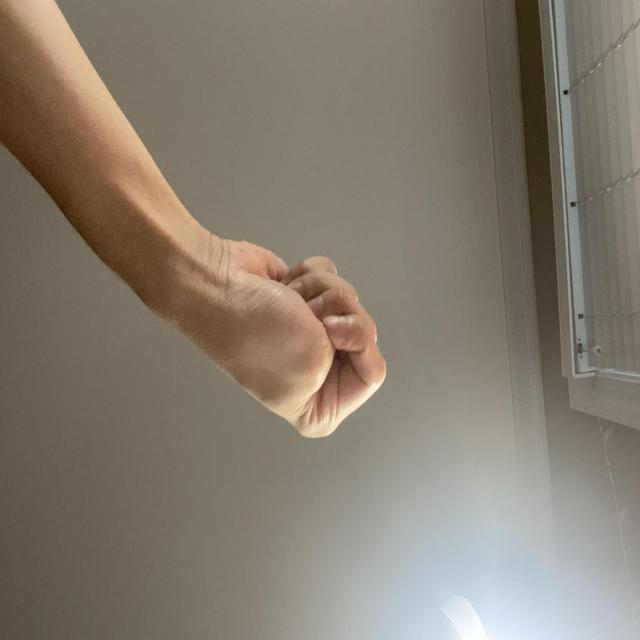M: (332, 330, 496, 600)
